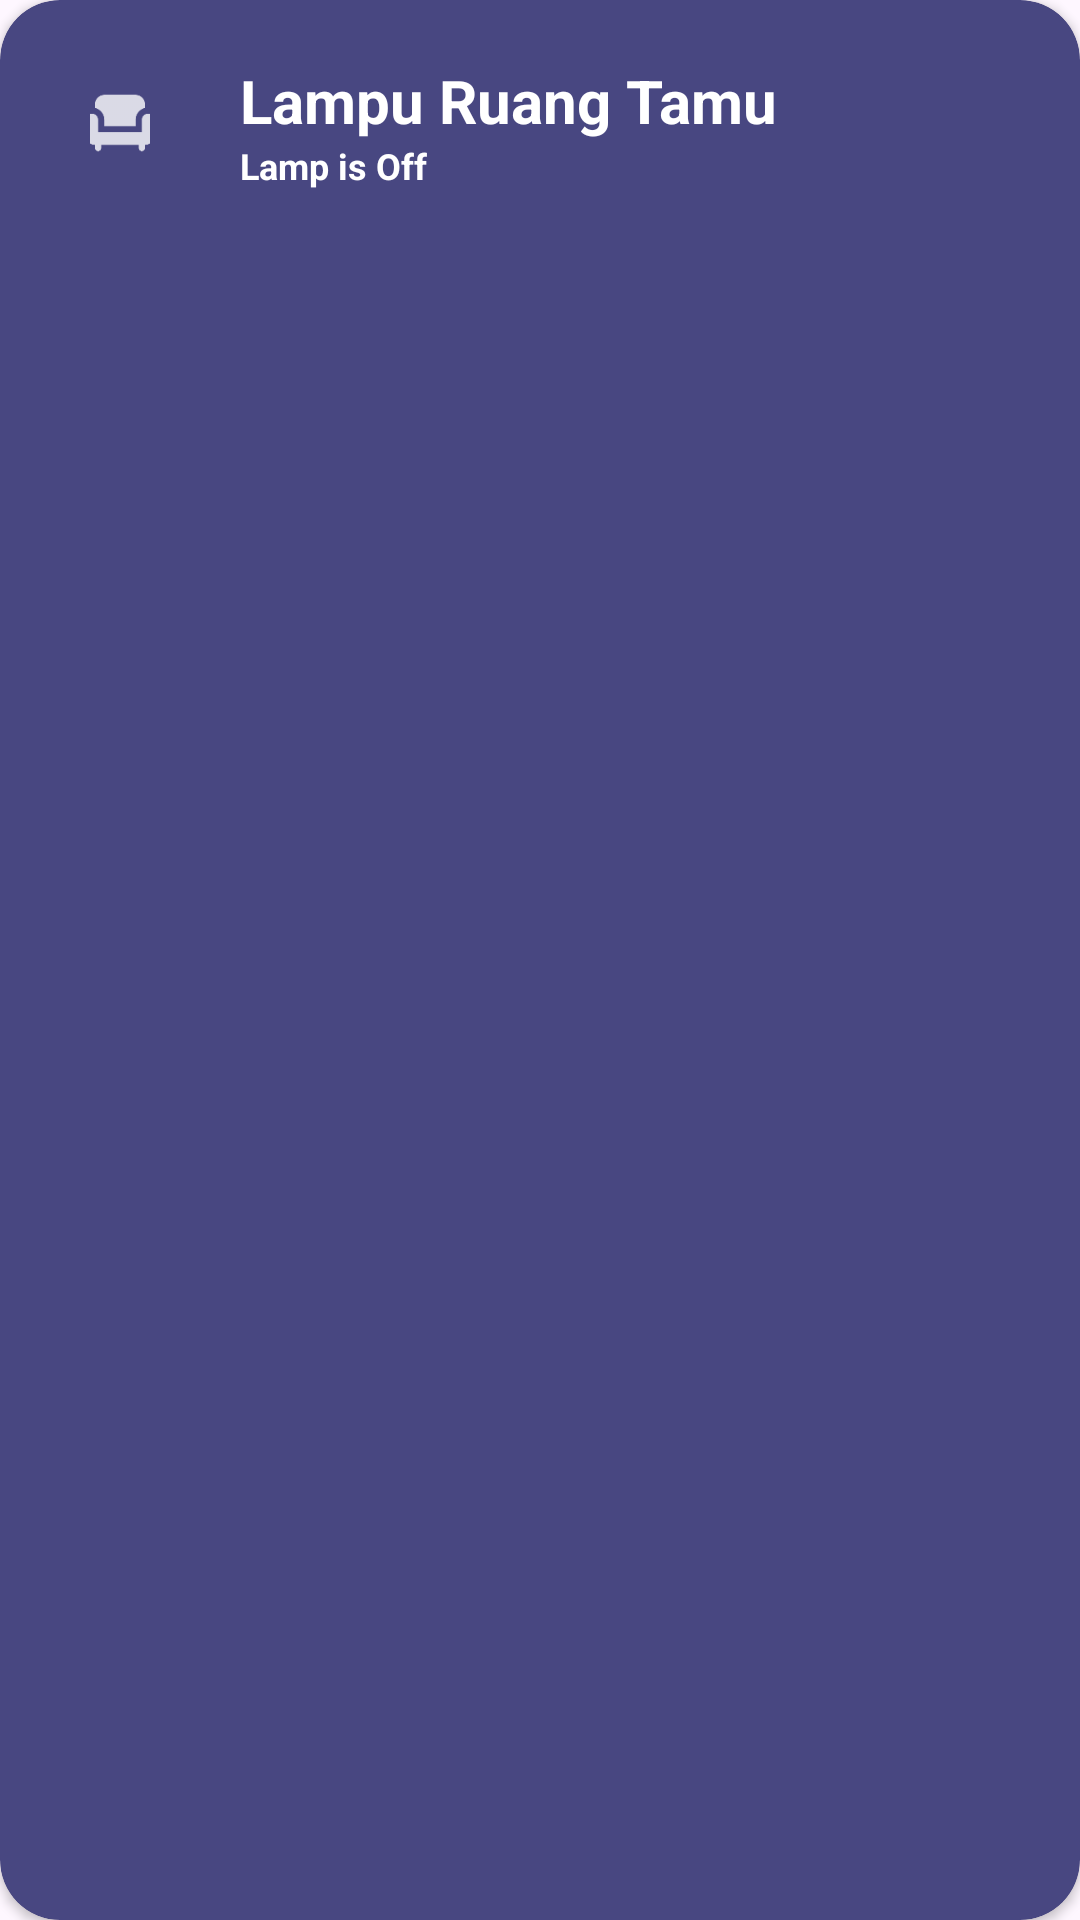

Locate icon controls on the screen. Image size 1080 × 1920, boxes as bbox=[x1, y1, x2, y2].
shofabaru: bbox=[90, 94, 150, 152]
